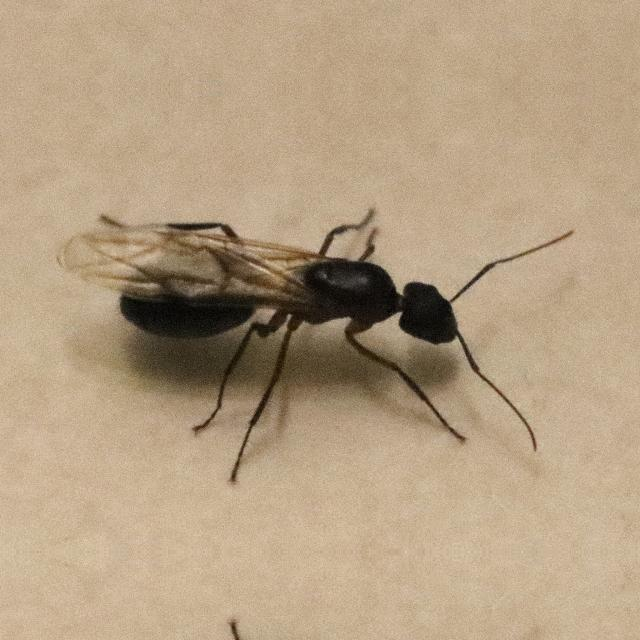Camponotus: (68, 158, 548, 458)
